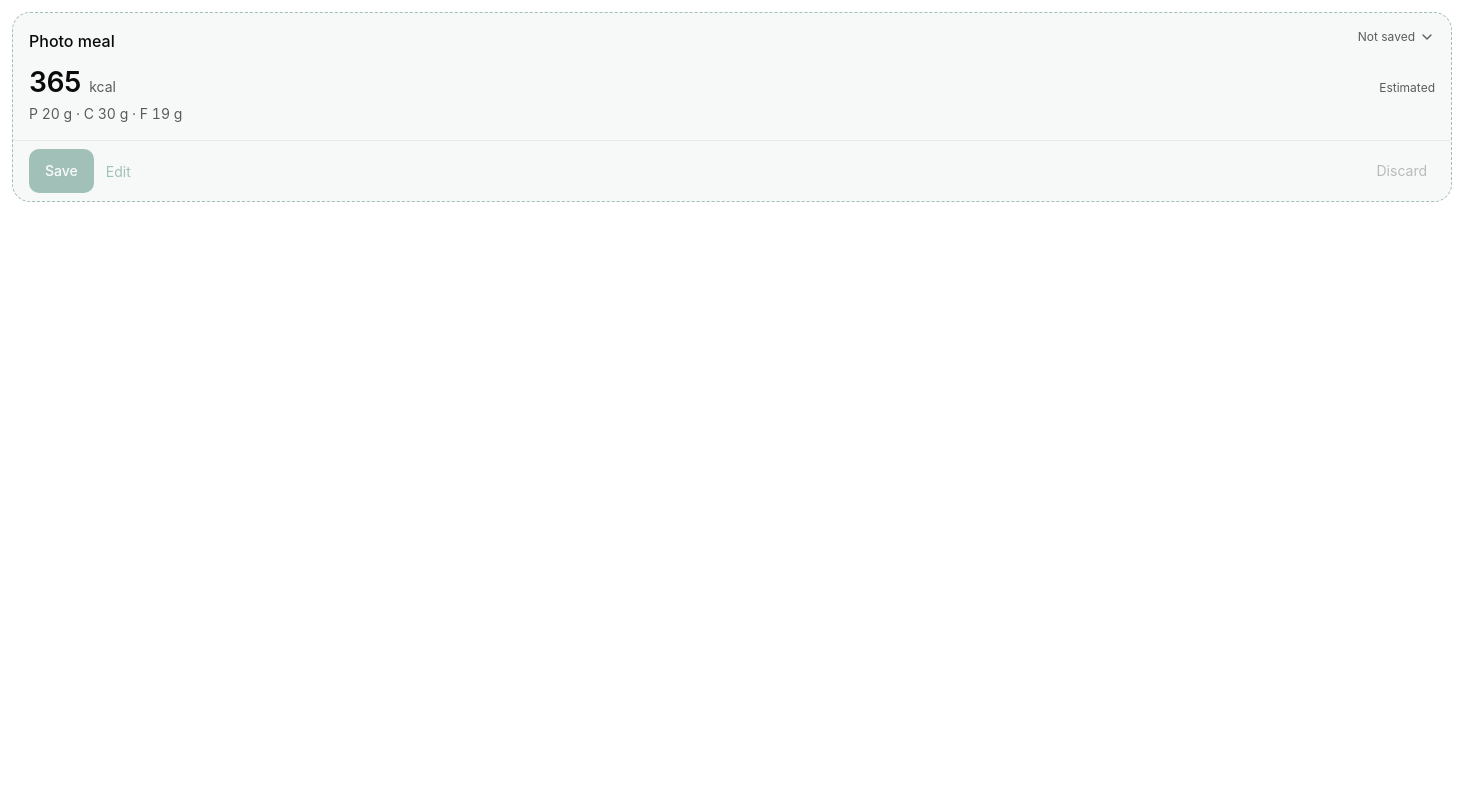
expands photo portions, assumptions, uncertainty, time and totals accessibly
Expected: the text "Estimated" is shown, [1379,80,1435,96]
Expected: the text "Cooking oil" is not shown
What coordinates should you click on to do the following:
click the button with aria-label "Expand Photo meal"
I would click on:
 (732, 76)
Its box is [13,13,1451,140].
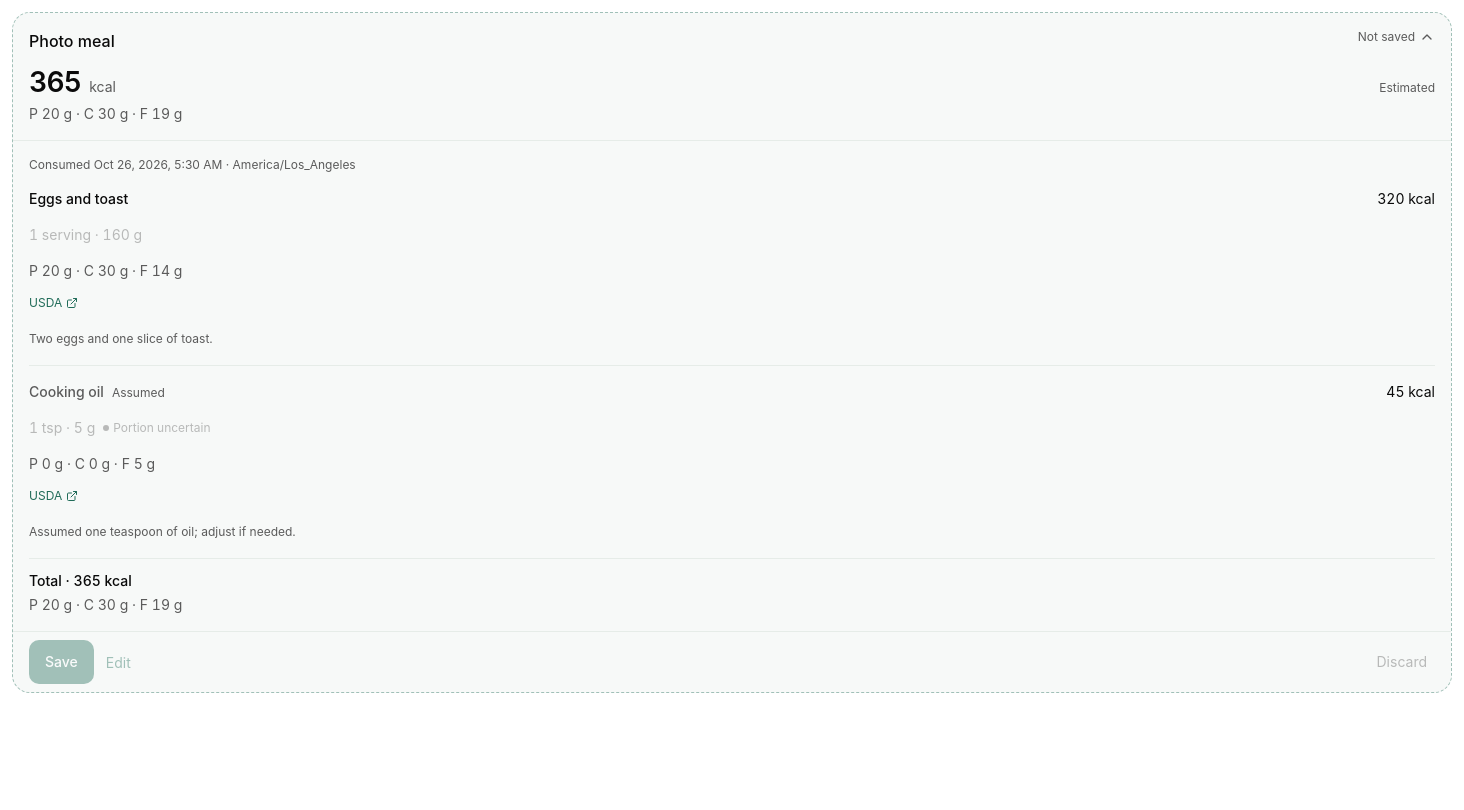
Expected: the button named "Expand Photo meal" is expanded
Expected: the text "Cooking oil" is shown, [29,383,104,400]
Expected: the text "Assumed" is shown, [112,385,165,400]
What coordinates should you click on to do the following:
click the button named "Expand Photo meal"
I would click on:
 (732, 76)
Its box is [13,13,1451,140].
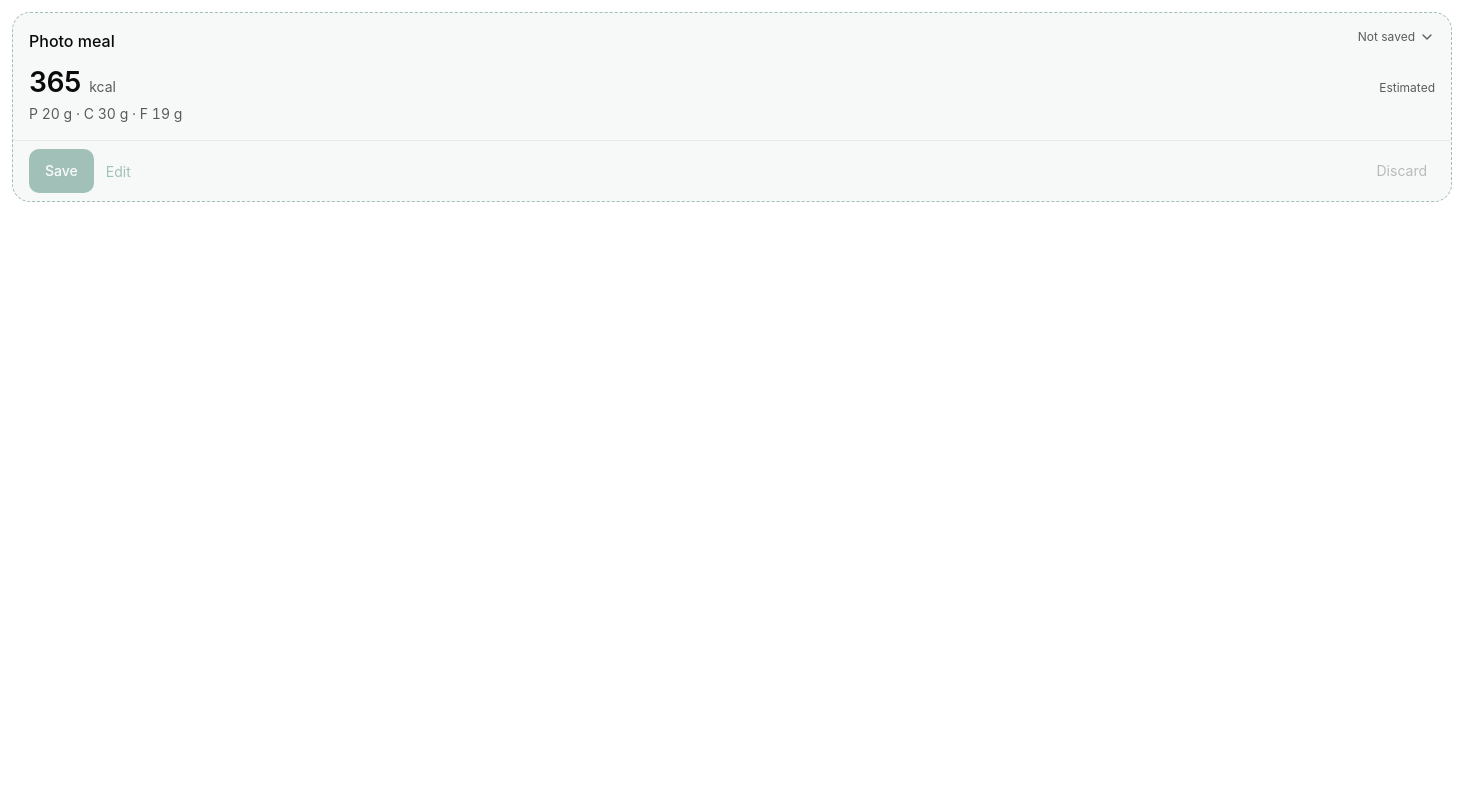
Expected: the text "Cooking oil" is gone
